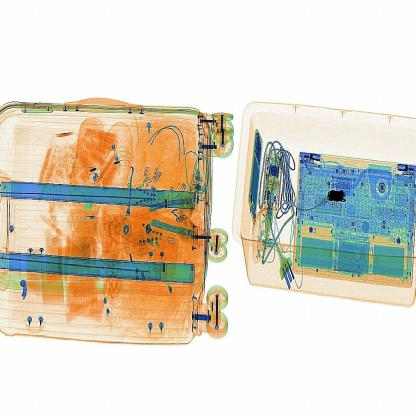scissors: (316, 177, 355, 220)
